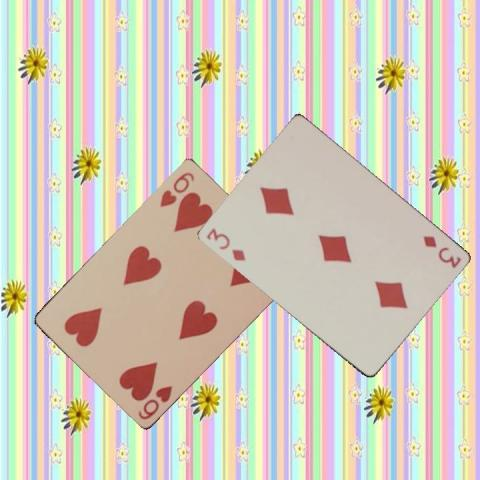3d: (202, 225, 246, 262), (419, 233, 462, 270)
6h: (156, 168, 196, 208), (135, 382, 174, 421)
